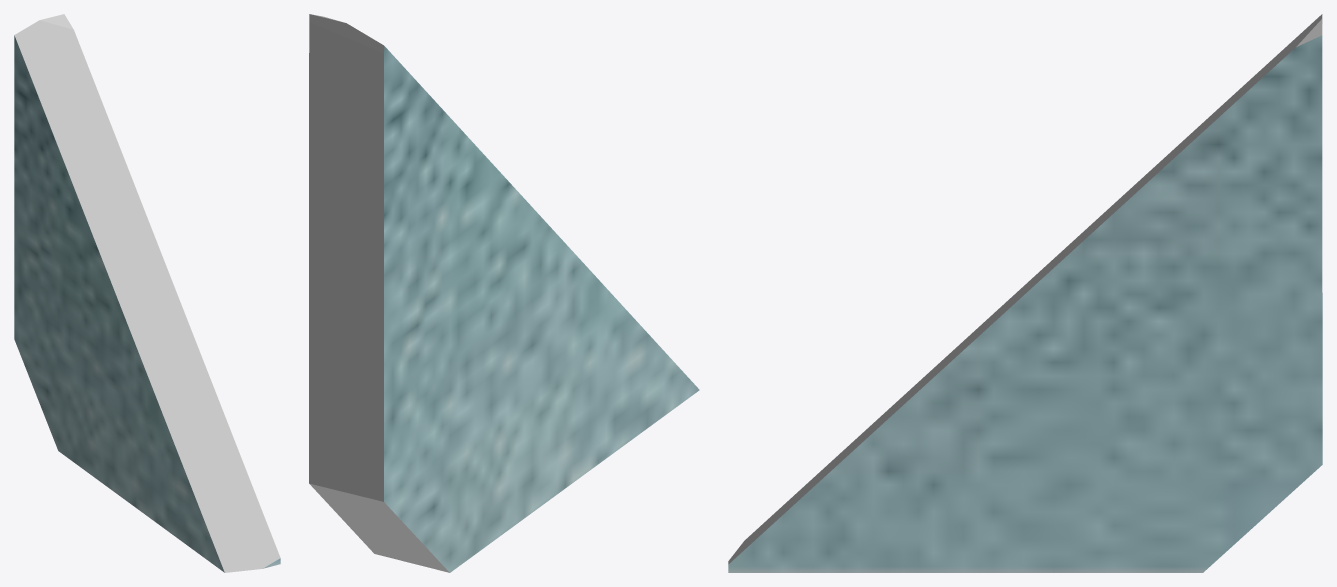
The picture shows the model from 3 angles, left to right: view 1: azimuth 30°, elevation 25°; view 2: azimuth 150°, elevation 25°; view 3: azimuth 270°, elevation 25°; orthographic projection. The views are drawn at different scales.
Parts seen in each view (by area): view 1: Cube_cell.016_Mesh.021; view 2: Cube_cell.016_Mesh.021; view 3: Cube_cell.016_Mesh.021.
Part boxes in pixels (x1,y1,x2,y2): Cube_cell.016_Mesh.021: (14,14,280,572); Cube_cell.016_Mesh.021: (309,14,699,572); Cube_cell.016_Mesh.021: (728,14,1322,572).
Size of the model in its own units: 0.0832 by 0.6248 by 0.6242.
